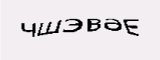Г: (82, 29, 101, 49)
П: (67, 26, 83, 44)
У: (54, 21, 65, 43)
Х: (37, 19, 56, 40)
Ю: (100, 28, 126, 45)
